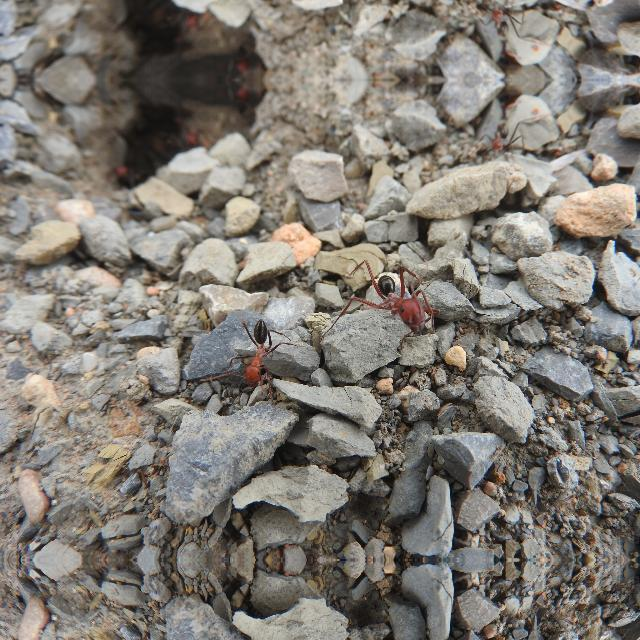Cataglyphis: (343, 252, 461, 346), (217, 312, 296, 396)
